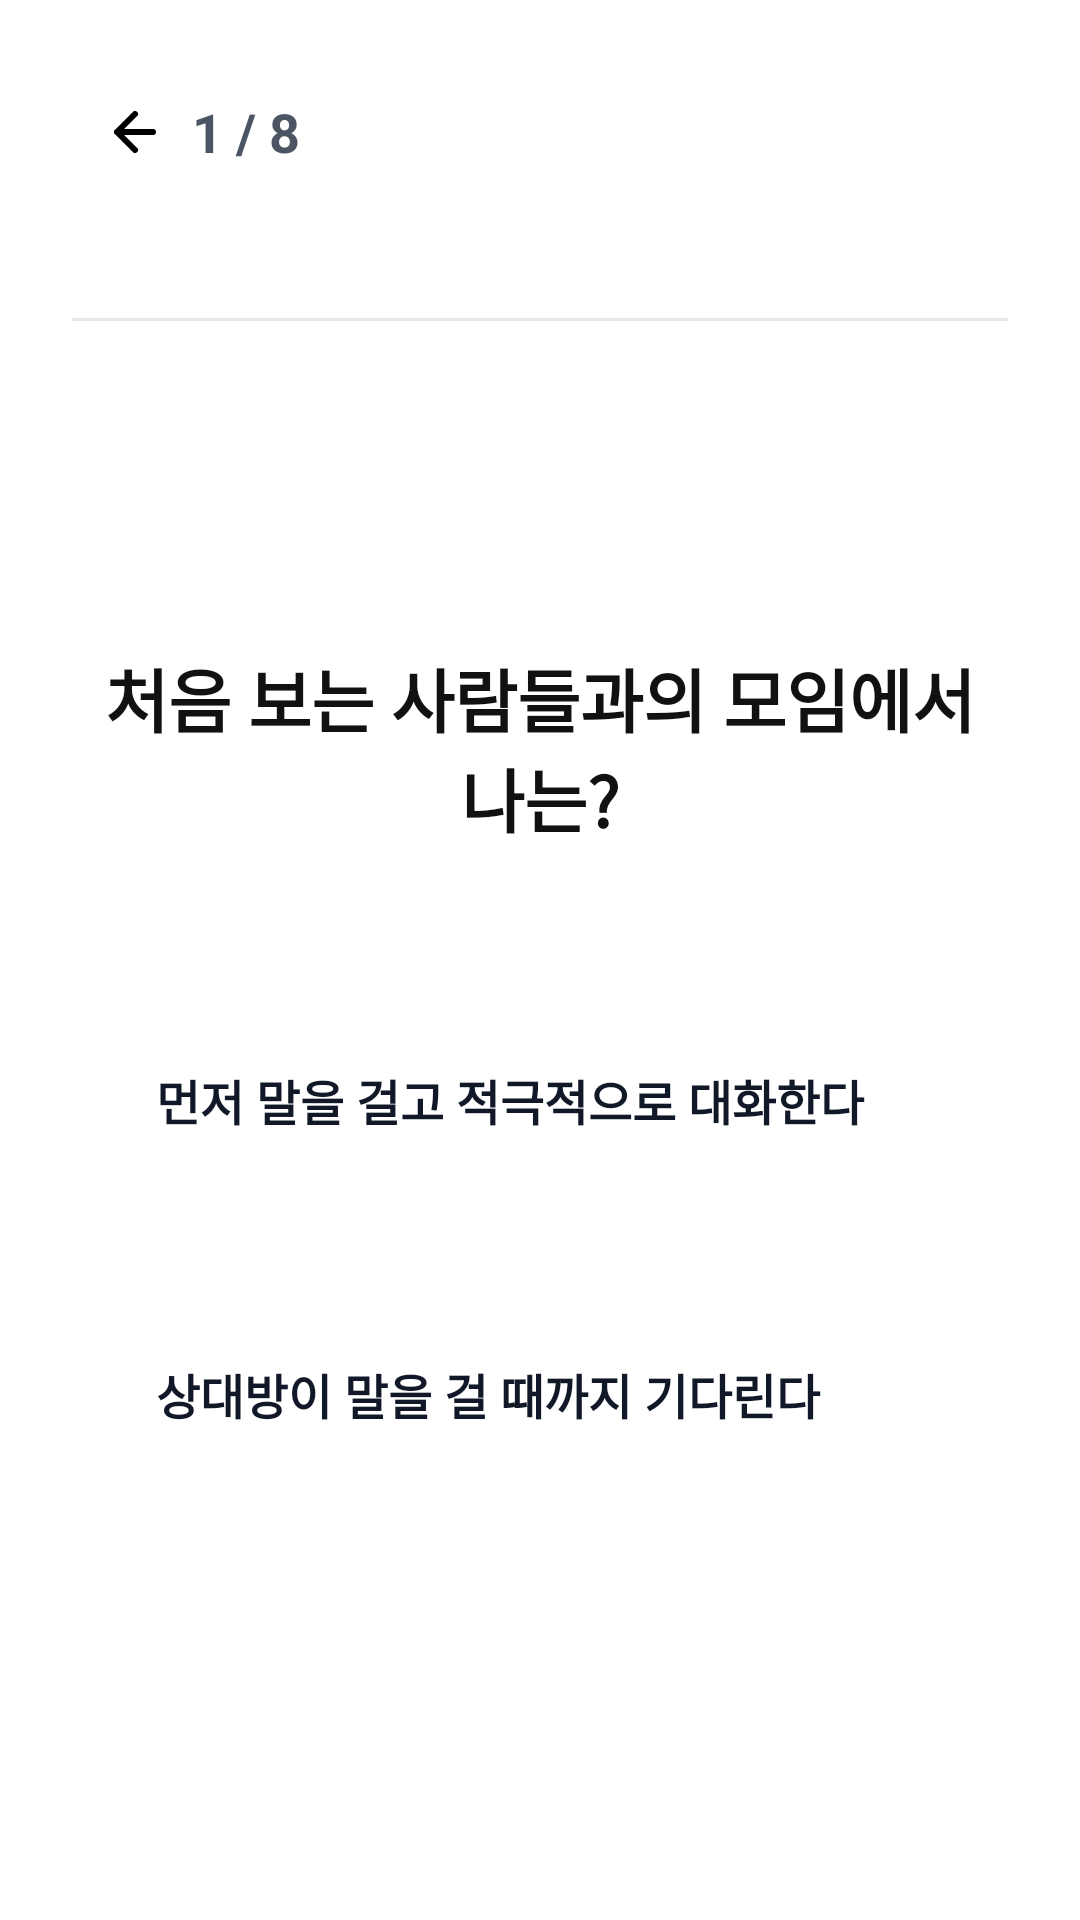

Where to tap for icons on this 1080*1920 app screen, as (x=x, y=y):
back: (x=135, y=132)
